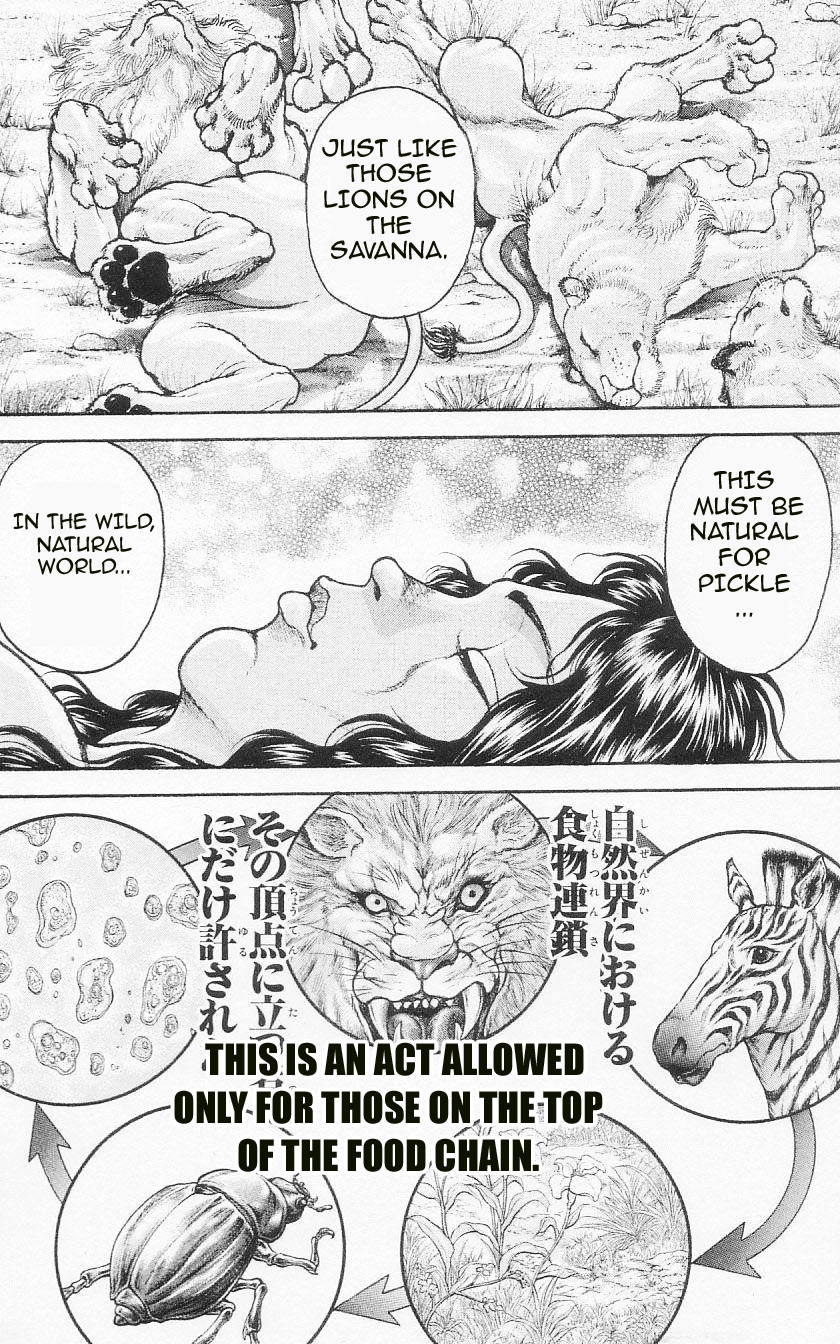Baloon: (294, 86, 472, 325), (661, 435, 827, 678), (1, 441, 165, 675)
Vignetta: (2, 794, 840, 1344), (1, 1, 840, 414), (1, 431, 835, 774)
